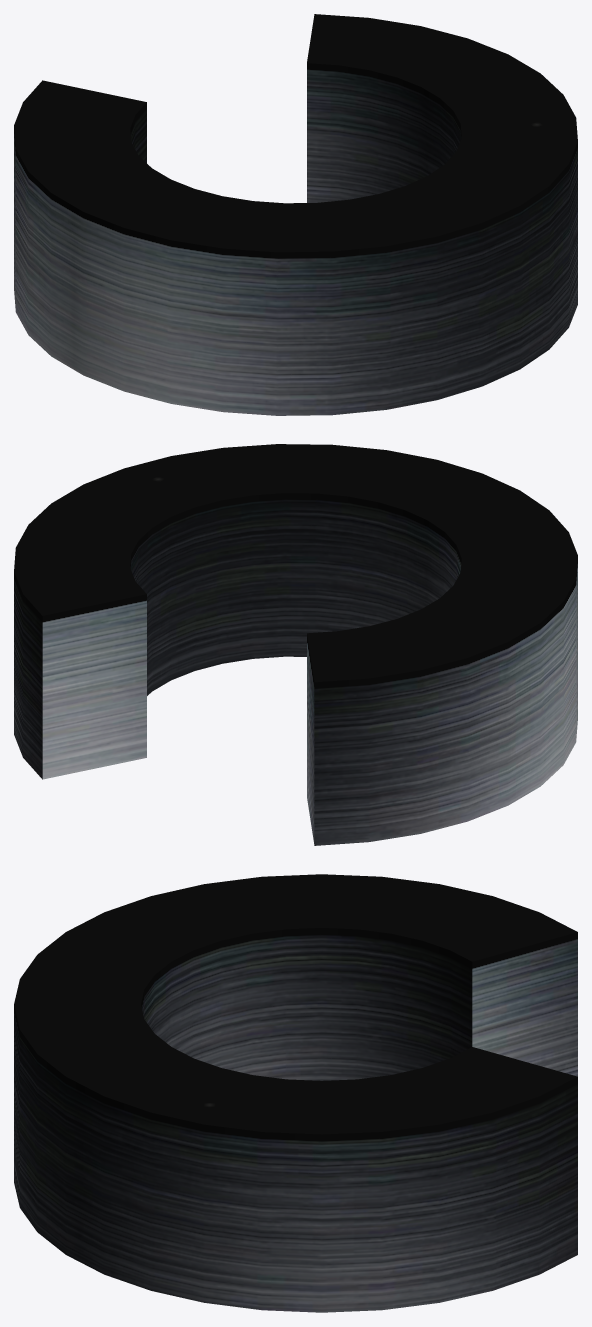
Rendered from dj_table.glb.
3 views of the same model, one above another, from view 1: azimuth 30°, elevation 25°; view 2: azimuth 150°, elevation 25°; view 3: azimuth 270°, elevation 25° (orthographic). The views are drawn at different scales.
Parts seen in each view (by area): view 1: DJ Table; view 2: DJ Table; view 3: DJ Table.
Boxes of the visible parts, bbox=[...] form: DJ Table: bbox=[14, 14, 577, 415]; DJ Table: bbox=[14, 444, 577, 845]; DJ Table: bbox=[14, 874, 577, 1312].
Size of what is drawn, in the model's own units: 3.39 by 1.08 by 3.11.
1 material, 1 textured.
